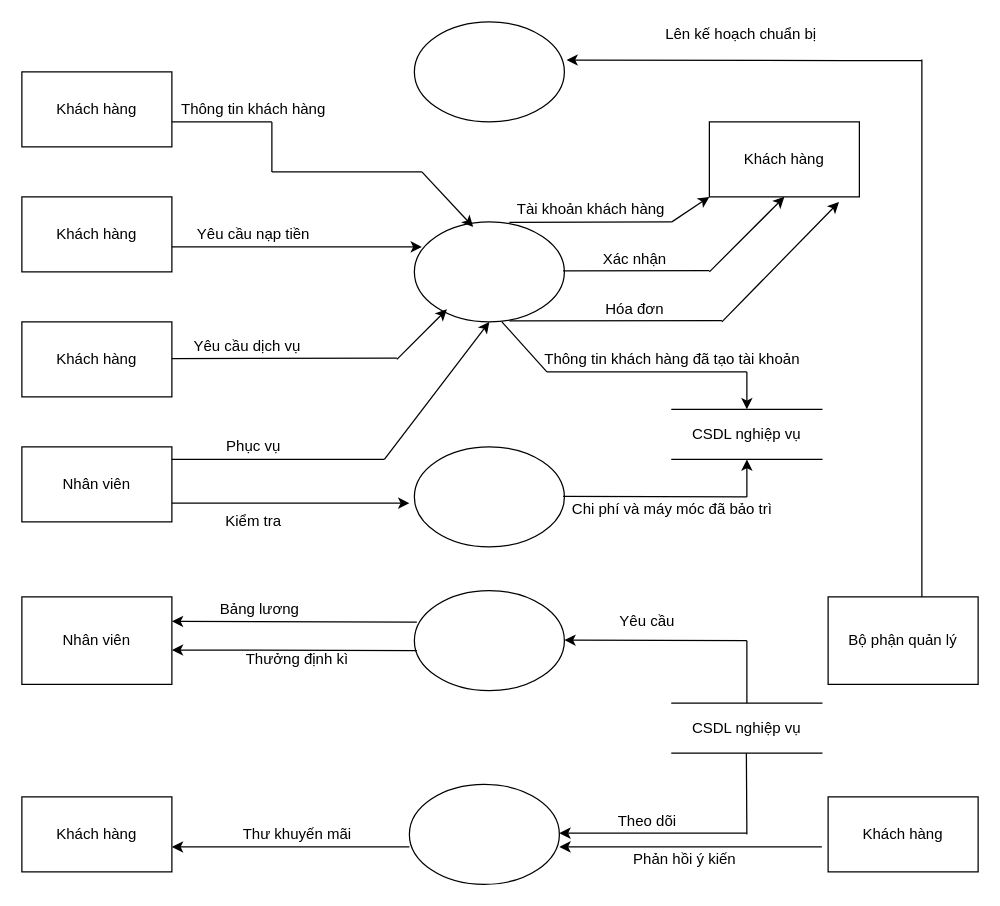
This 1000x906 diagram has some shape labels left out. The shapes that lost their labels are listed below. From the top down, each one's centre as x and y in pixels, then its label:
the point at 488,71: 1.0 Chuẩn bị kế hoạch
the point at 488,271: 2.0 Vận hành quán net
the point at 488,496: 3.0 Kiểm tra định kì và bảo trì
the point at 488,640: 4.0 Tạo báo cáo
the point at 483,833: 5.0 Chăm sóc khách hàng
